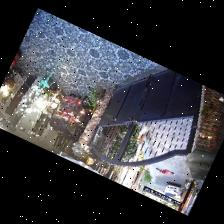person: (155, 167, 172, 173)
